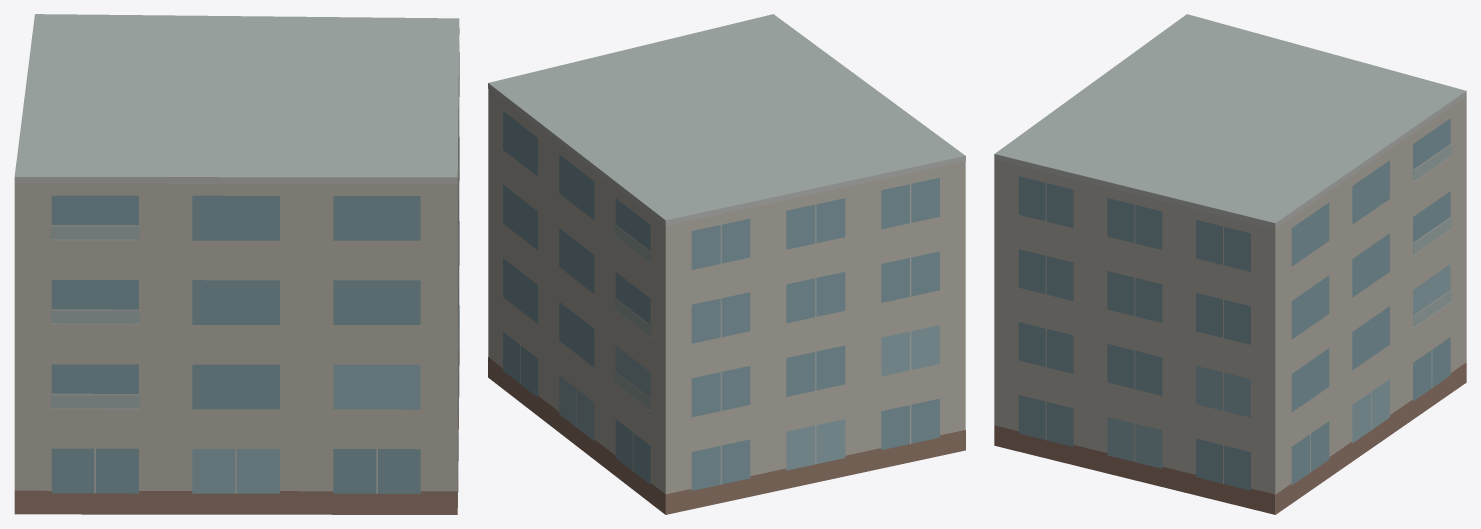
Rendered from survey-upis-32657090.glb.
3 renders of one model, left to right at view 1: azimuth 30°, elevation 25°; view 2: azimuth 150°, elevation 25°; view 3: azimuth 270°, elevation 25°, orthographic. The views are drawn at different scales.
Visible parts, largest first — view 1: survey-upis-32657090.tmp; view 2: survey-upis-32657090.tmp; view 3: survey-upis-32657090.tmp.
Part boxes in pixels (x1,y1,x2,y2): survey-upis-32657090.tmp: (14,14,459,514); survey-upis-32657090.tmp: (488,14,965,514); survey-upis-32657090.tmp: (994,14,1466,514).
Bounding box in the file's own units: 19.7 × 12.8 × 18.79.
